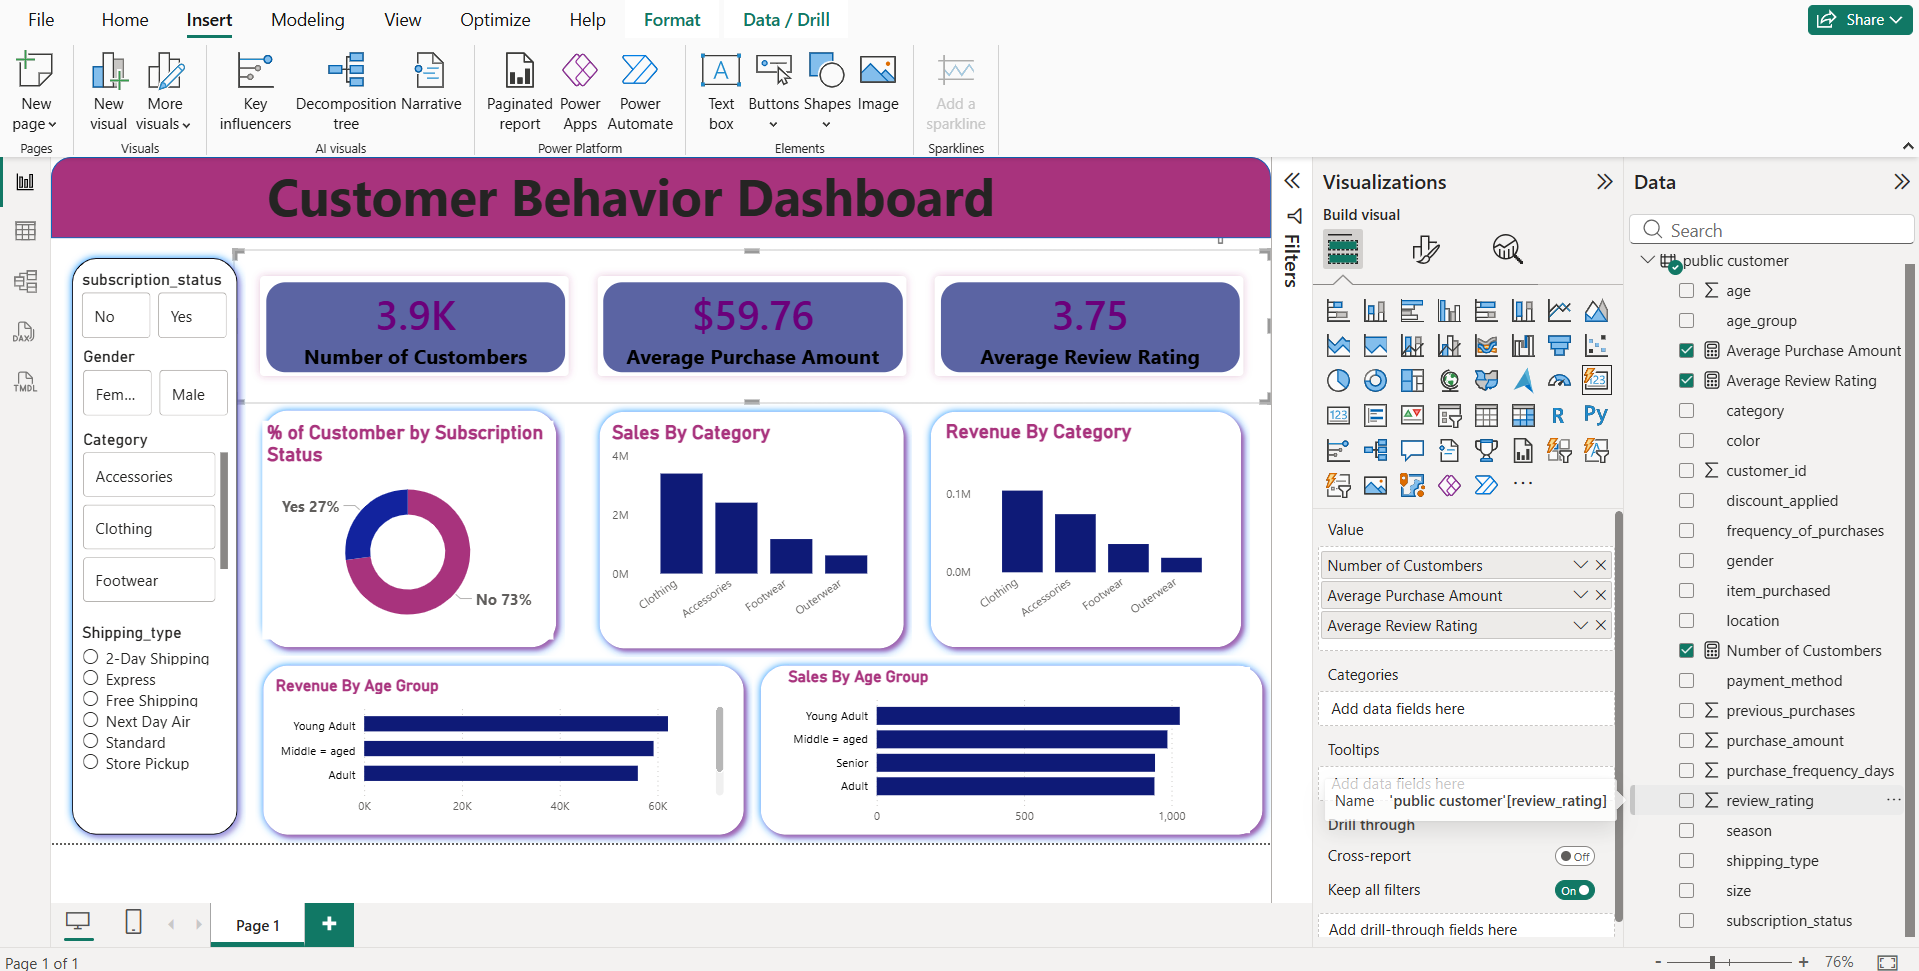

The page's visual inventory and layout, read from the dashboard file:
{"tool":"powerbi","page":{"name":"Page 1","canvas":[1280,720],"ordinal":0},"visuals":[{"type":"cardVisual","fields":{"Data":["public customer.Number of Custombers","public customer.Average Purchase Amount","public customer.Average Review Rating"]},"box":[191.5,97.1,1088.8,161.3],"z":0},{"type":"shape","box":[0,0,1280.3,85.3],"z":1000},{"type":"textbox","box":[158.7,0,899.9,85.3],"z":2000},{"type":"shape","box":[213.8,257.1,325.3,266.3],"z":3000},{"type":"donutChart","title":"% of Customber by Subscription Status","fields":{"Category":["public customer.subscription_status"],"Y":["CountNonNull(public customer.customer_id)"]},"box":[221.7,276.8,305.6,229.6],"z":4000},{"type":"shape","box":[566.7,258.4,337.1,266.3],"z":5000},{"type":"shape","box":[914.3,258.4,343.7,265],"z":6000},{"type":"clusteredColumnChart","title":"Revenue By Category","fields":{"Y":["Sum(public customer.purchase_amount)"],"Category":["public customer.category"]},"box":[934,275.5,303,229.6],"z":7000},{"type":"clusteredColumnChart","title":"Sales By Category","fields":{"Y":["Sum(public customer.customer_id)"],"Category":["public customer.category"]},"box":[583.7,276.8,303,229.6],"z":8000},{"type":"shape","box":[13.1,97.1,191.5,623.1],"z":9000},{"type":"advancedSlicerVisual","fields":{"Values":["public customer.subscription_status"]},"box":[27.5,118.1,162.7,77.4],"z":10000},{"type":"advancedSlicerVisual","title":"Gender","fields":{"Values":["public customer.gender"]},"box":[28.9,199.4,162.7,77.4],"z":11000},{"type":"advancedSlicerVisual","title":"Category","fields":{"Values":["public customer.category"]},"box":[28.9,286,162.7,186.3],"z":12000},{"type":"listSlicer","title":"Shipping_type","fields":{"Values":["public customer.shipping_type"]},"box":[27.5,489.3,162.7,209.9],"z":13000},{"type":"shape","box":[213.8,524.7,522.1,195.5],"z":15000},{"type":"shape","box":[735.9,524.7,544.4,195.5],"z":15001},{"type":"clusteredBarChart","title":"Sales By Age Group","fields":{"Y":["CountNonNull(public customer.customer_id)"],"Category":["public customer.age_group"]},"box":[768.7,535.2,489.3,174.5],"z":15002},{"type":"clusteredBarChart","title":"Revenue By Age Group","fields":{"Y":["Sum(public customer.purchase_amount)"],"Category":["public customer.age_group"]},"box":[230.9,544.4,480.1,154.8],"z":15003}]}

Visuals, with their boxes on the page's 1280x720 design canvas (x1, y1, x2, y2). These are canvas units, not pixel positions in the 1919x971 screenshot, which may show the page scaled, cropped or inside an application window:
cardVisual - public customer.Number of Custombers x public customer.Average Purchase Amount: bbox(192, 97, 1280, 258)
shape: bbox(0, 0, 1280, 85)
textbox: bbox(159, 0, 1059, 85)
shape: bbox(214, 257, 539, 523)
"% of Customber by Subscription Status" donutChart: bbox(222, 277, 527, 506)
shape: bbox(567, 258, 904, 525)
shape: bbox(914, 258, 1258, 523)
"Revenue By Category" clusteredColumnChart: bbox(934, 276, 1237, 505)
"Sales By Category" clusteredColumnChart: bbox(584, 277, 887, 506)
shape: bbox(13, 97, 205, 720)
advancedSlicerVisual - public customer.subscription_status: bbox(28, 118, 190, 196)
"Gender" advancedSlicerVisual: bbox(29, 199, 192, 277)
"Category" advancedSlicerVisual: bbox(29, 286, 192, 472)
"Shipping_type" listSlicer: bbox(28, 489, 190, 699)
shape: bbox(214, 525, 736, 720)
shape: bbox(736, 525, 1280, 720)
"Sales By Age Group" clusteredBarChart: bbox(769, 535, 1258, 710)
"Revenue By Age Group" clusteredBarChart: bbox(231, 544, 711, 699)
